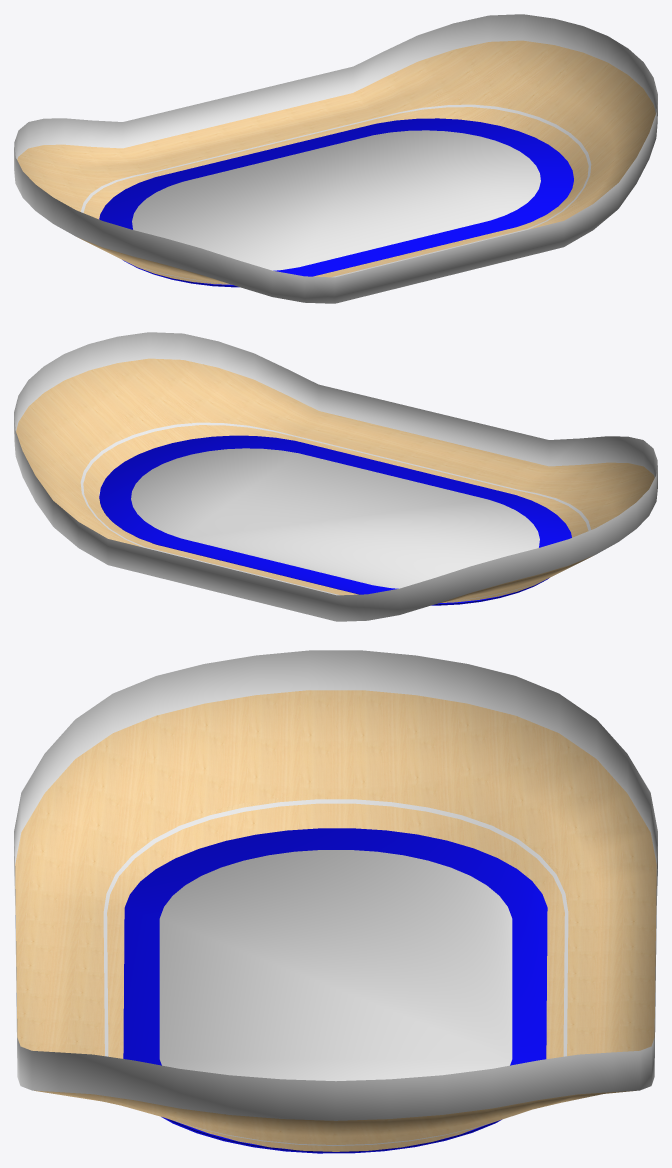
Rendered from cycle_road_2.fbx.
The picture shows the model from 3 angles, top to bottom: view 1: azimuth 30°, elevation 25°; view 2: azimuth 150°, elevation 25°; view 3: azimuth 270°, elevation 25°; orthographic projection. The views are drawn at different scales.
Parts seen in each view (by area): view 1: Torus, Cylinder, Cylinder.002; view 2: Torus, Cylinder, Cylinder.002; view 3: Torus, Cylinder, Cylinder.002.
Boxes of the visible parts, x1=… form: Torus: x1=14, y1=14, x2=657, y2=303; Cylinder: x1=132, y1=130, x2=540, y2=270; Cylinder.002: x1=99, y1=118, x2=573, y2=287; Torus: x1=14, y1=332, x2=657, y2=621; Cylinder: x1=131, y1=448, x2=539, y2=588; Cylinder.002: x1=99, y1=435, x2=571, y2=605; Torus: x1=14, y1=650, x2=657, y2=1151; Cylinder: x1=159, y1=850, x2=512, y2=1081; Cylinder.002: x1=123, y1=828, x2=547, y2=1153.
Bounding box in the file's own units: 657 × 90.65 × 415.
Materials: 3 (1 with a texture image).
